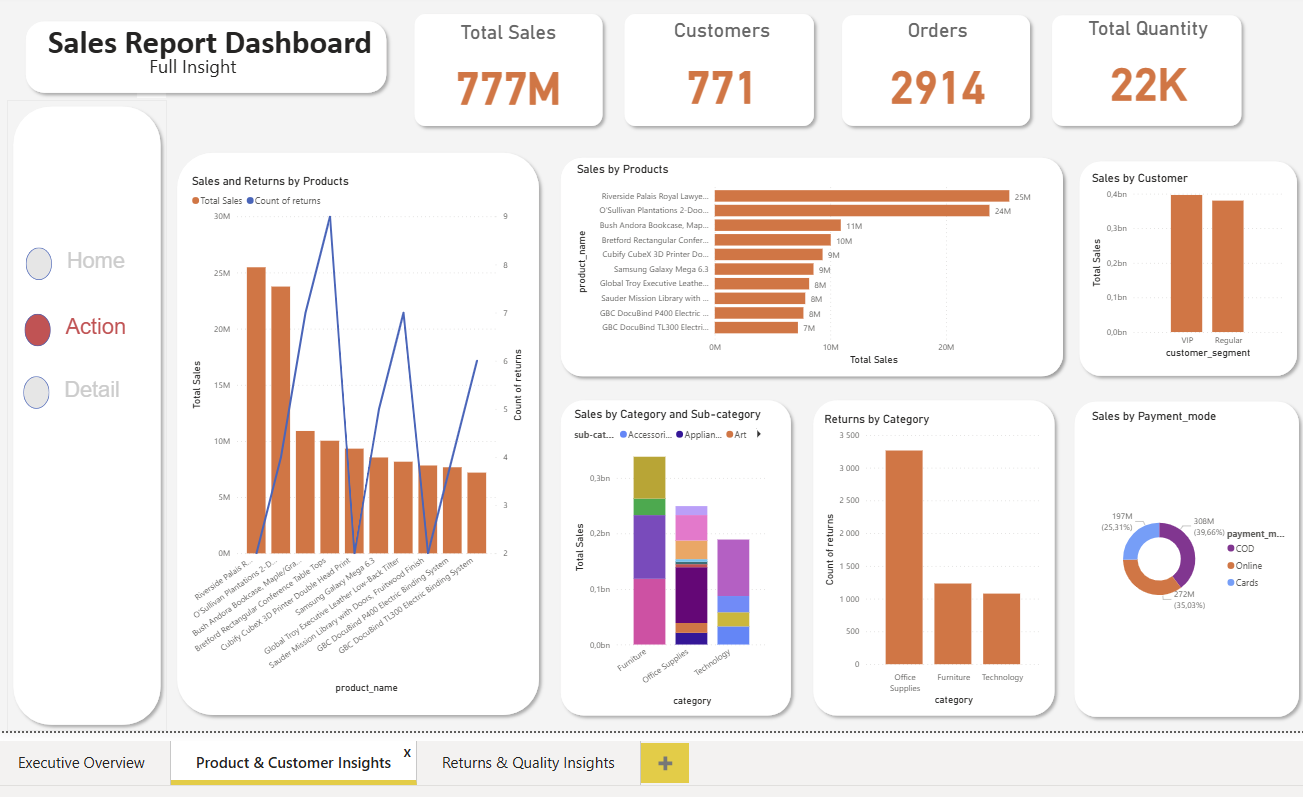

The dashboard page shown, as its layout file describes it:
{"tool":"powerbi","page":{"name":"Product & Customer Insights","canvas":[1600,1000],"ordinal":1},"visuals":[{"type":"slicer","fields":{"Values":["sales_clean.category"]},"box":[50.1,20.7,229.8,79.5],"z":0},{"type":"slicer","fields":{"Values":["sales_clean.sub-category"]},"box":[311,20.7,255.7,79.5],"z":1000},{"type":"slicer","fields":{"Values":["sales_clean.region"]},"box":[611.7,20.7,255.7,79.5],"z":2000},{"type":"slicer","fields":{"Values":["sales_clean.customer_segment"]},"box":[898.5,27.6,362.9,84.7],"z":3000},{"type":"slicer","fields":{"Values":["sales_clean.month_name"]},"box":[1292.4,25.9,293.7,95],"z":4000},{"type":"clusteredBarChart","fields":{"Category":["sales_clean.product_name"],"Y":["sales_clean.Total Sales"]},"box":[67.4,145.1,589.2,354.2],"z":5000},{"type":"clusteredColumnChart","fields":{"Category":["sales_clean.customer_segment"],"Y":["sales_clean.Total Sales","sales_clean.Total Quantity"]},"box":[696.3,141.7,387,357.7],"z":6000},{"type":"columnChart","fields":{"Category":["sales_clean.category"],"Series":["sales_clean.sub-category"],"Y":["sales_clean.Total Sales"]},"box":[141.7,518.4,409.5,442.3],"z":7000},{"type":"columnChart","fields":{"Category":["sales_clean.category"],"Y":["CountNonNull(sales_clean.returns)"]},"box":[668.7,561.6,397.4,404.3],"z":8000},{"type":"lineClusteredColumnComboChart","fields":{"Category":["sales_clean.product_name"],"Y":["sales_clean.Total Sales"],"Y2":["CountNonNull(sales_clean.returns)"]},"box":[1079.9,121,520.1,839.7],"z":9000}]}

Visuals, with their boxes on the page's 1600x1000 design canvas (x1, y1, x2, y2). These are canvas units, not pixel positions in the 1303x797 screenshot, which may show the page scaled, cropped or inside an application window:
slicer - sales_clean.category: [50, 21, 280, 100]
slicer - sales_clean.sub-category: [311, 21, 567, 100]
slicer - sales_clean.region: [612, 21, 867, 100]
slicer - sales_clean.customer_segment: [898, 28, 1261, 112]
slicer - sales_clean.month_name: [1292, 26, 1586, 121]
clusteredBarChart - sales_clean.product_name x sales_clean.Total Sales: [67, 145, 657, 499]
clusteredColumnChart - sales_clean.customer_segment x sales_clean.Total Sales: [696, 142, 1083, 499]
columnChart - sales_clean.category x sales_clean.sub-category: [142, 518, 551, 961]
columnChart - sales_clean.category x CountNonNull(sales_clean.returns): [669, 562, 1066, 966]
lineClusteredColumnComboChart - sales_clean.product_name x sales_clean.Total Sales: [1080, 121, 1600, 961]
